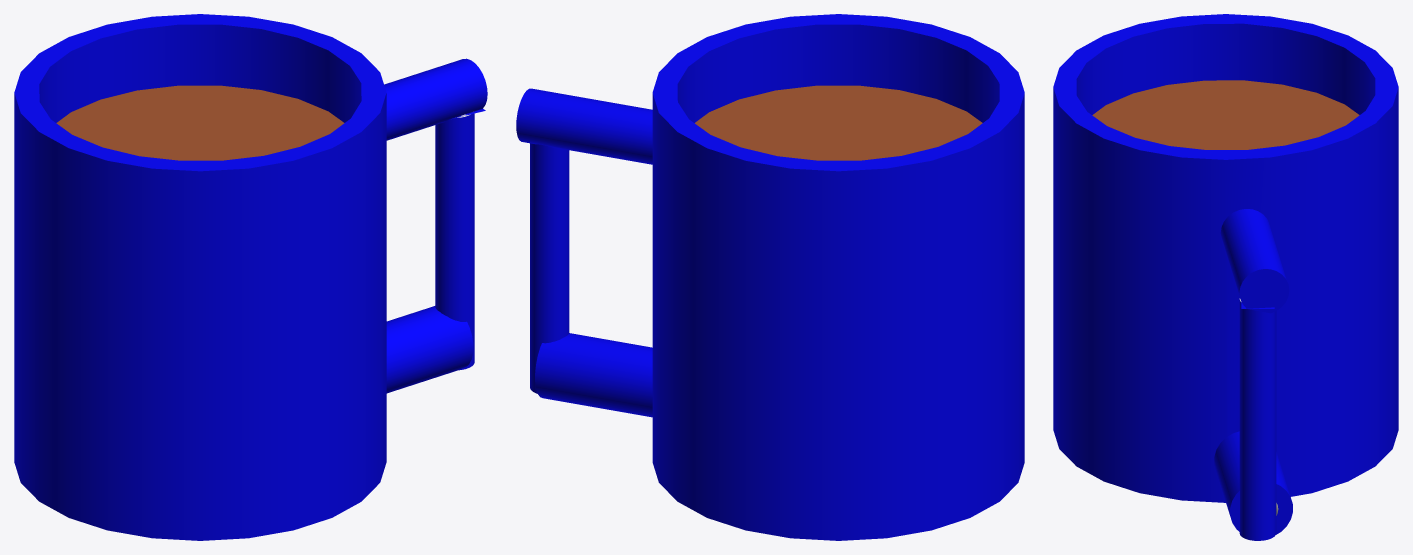
3 views of the same model, side by side, from view 1: azimuth 30°, elevation 25°; view 2: azimuth 150°, elevation 25°; view 3: azimuth 270°, elevation 25° (orthographic). The views are drawn at different scales.
Visible parts, largest first — view 1: SketchUp (×6); view 2: SketchUp (×6); view 3: SketchUp (×6).
Boxes of the visible parts, x1,y1,x2,y2 form: SketchUp (×6): [14, 14, 487, 540]; SketchUp (×6): [516, 14, 1024, 540]; SketchUp (×6): [1053, 14, 1398, 540].
Bounding box in the file's own units: 33.21 × 23.5 × 25.75.
